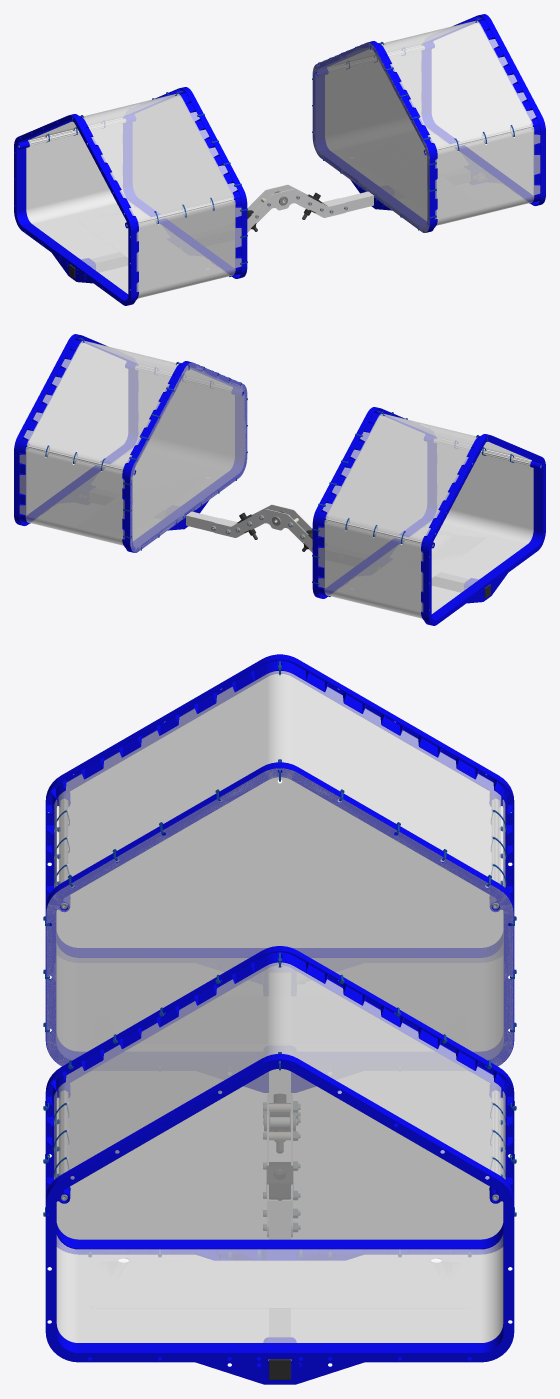
3 views of the same model, one above another, from view 1: azimuth 30°, elevation 25°; view 2: azimuth 150°, elevation 25°; view 3: azimuth 270°, elevation 25° (orthographic). The views are drawn at different scales.
Parts seen in each view (by area): view 1: am-5888: Hive Goal Bottom Skin (×2), am-5869: Hive Goal Top Skin (×2), am-5871: Hive Goal Back Skin (×2), am-5866-blue: Blue Goal Rib (×4), am-5873: Goal Pivot Bracket (×2), am-5888-blue2: Blue Goal April Tag (Scoring), am-5867: 10.5in Churro Lite (×3), am-5868: Basket Base Tube (×2); view 2: am-5888: Hive Goal Bottom Skin (×2), am-5869: Hive Goal Top Skin (×2), am-5871: Hive Goal Back Skin (×2), am-5866-blue: Blue Goal Rib (×4), am-5873: Goal Pivot Bracket (×2), am-5888-blue2: Blue Goal April Tag (Scoring), am-5867: 10.5in Churro Lite (×3), am-5868: Basket Base Tube (×2); view 3: am-5871: Hive Goal Back Skin (×2), am-5869: Hive Goal Top Skin (×2), am-5866-blue: Blue Goal Rib (×4), am-5888: Hive Goal Bottom Skin (×2), am-5888-blue1: Blue Goal April Tag (Audience), am-5868: Basket Base Tube, am-5864: Pivot Damper Holder.
Part boxes in pixels (left/top/right/bottom): am-5888: Hive Goal Bottom Skin (×2): left=26, top=47, right=540, bottom=298; am-5869: Hive Goal Top Skin (×2): left=28, top=20, right=536, bottom=221; am-5871: Hive Goal Back Skin (×2): left=133, top=42, right=429, bottom=269; am-5866-blue: Blue Goal Rib (×4): left=14, top=14, right=545, bottom=305; am-5873: Goal Pivot Bracket (×2): left=247, top=184, right=349, bottom=232; am-5888-blue2: Blue Goal April Tag (Scoring): left=74, top=206, right=128, bottom=257; am-5867: 10.5in Churro Lite (×3): left=29, top=119, right=532, bottom=223; am-5868: Basket Base Tube (×2): left=91, top=191, right=373, bottom=272; am-5888: Hive Goal Bottom Skin (×2): left=19, top=367, right=533, bottom=618; am-5869: Hive Goal Top Skin (×2): left=23, top=340, right=531, bottom=541; am-5871: Hive Goal Back Skin (×2): left=130, top=362, right=426, bottom=589; am-5866-blue: Blue Goal Rib (×4): left=14, top=334, right=545, bottom=625; am-5873: Goal Pivot Bracket (×2): left=210, top=504, right=312, bottom=552; am-5888-blue2: Blue Goal April Tag (Scoring): left=431, top=526, right=485, bottom=577; am-5867: 10.5in Churro Lite (×3): left=27, top=439, right=530, bottom=543; am-5868: Basket Base Tube (×2): left=186, top=511, right=468, bottom=592; am-5871: Hive Goal Back Skin (×2): left=46, top=768, right=513, bottom=1239; am-5869: Hive Goal Top Skin (×2): left=58, top=671, right=501, bottom=1179; am-5866-blue: Blue Goal Rib (×4): left=45, top=654, right=514, bottom=1384; am-5888: Hive Goal Bottom Skin (×2): left=54, top=799, right=505, bottom=1342; am-5888-blue1: Blue Goal April Tag (Audience): left=90, top=1260, right=469, bottom=1307; am-5868: Basket Base Tube: left=269, top=1201, right=290, bottom=1359; am-5864: Pivot Damper Holder: left=267, top=1162, right=292, bottom=1199.
Size of the model in its own units: 1.1 by 0.4084 by 0.5382.
